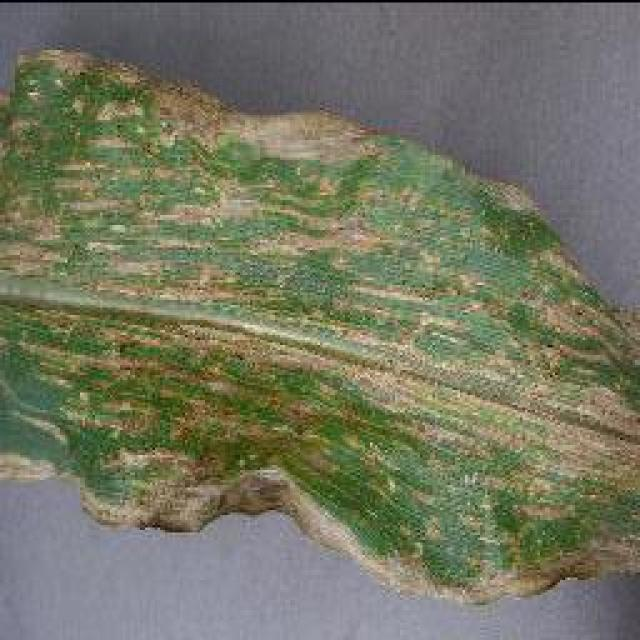Corn_Grey_Leaf_Spot: (12, 102, 632, 542)
